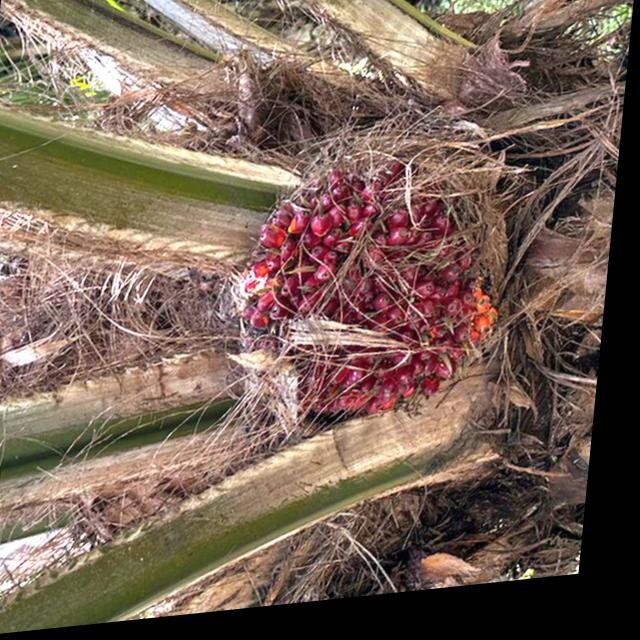ripe: (203, 124, 533, 469)
